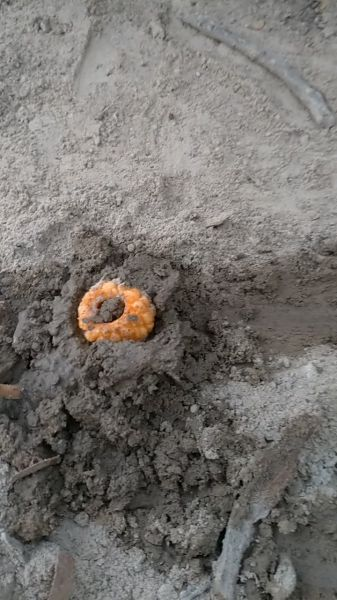eggs: (73, 273, 159, 355)
